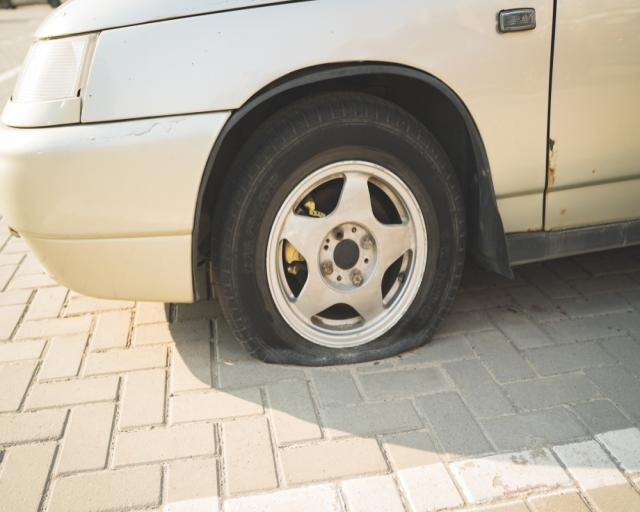tire flat: (213, 87, 467, 365)
